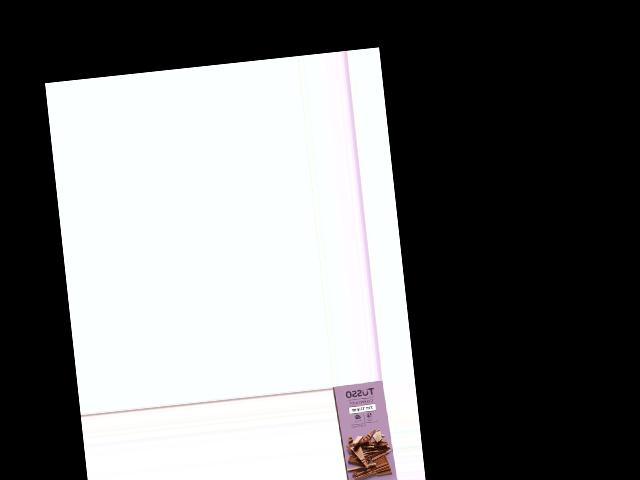chocolate: (336, 382, 395, 480)
